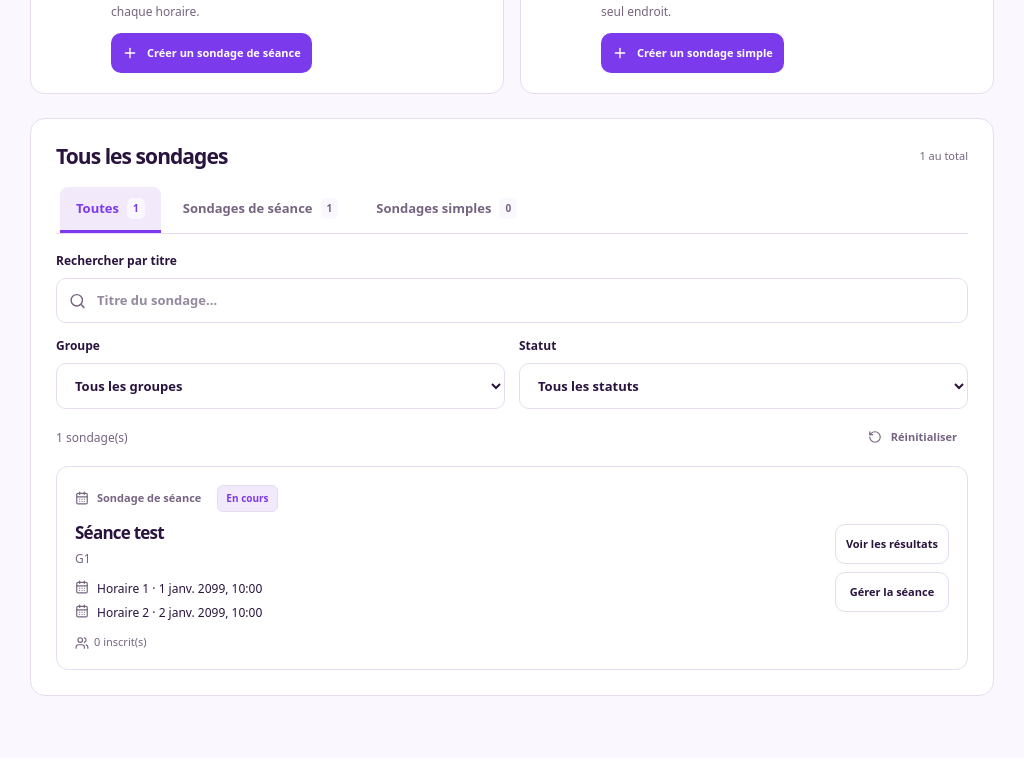
it: confirms slot removal, retains the remaining slot and prevents deleting the final slot alone
(page scrolled)
Click the button with aria-label "Gérer la séance : Séance test" at [892, 592], box [835,572,949,612]
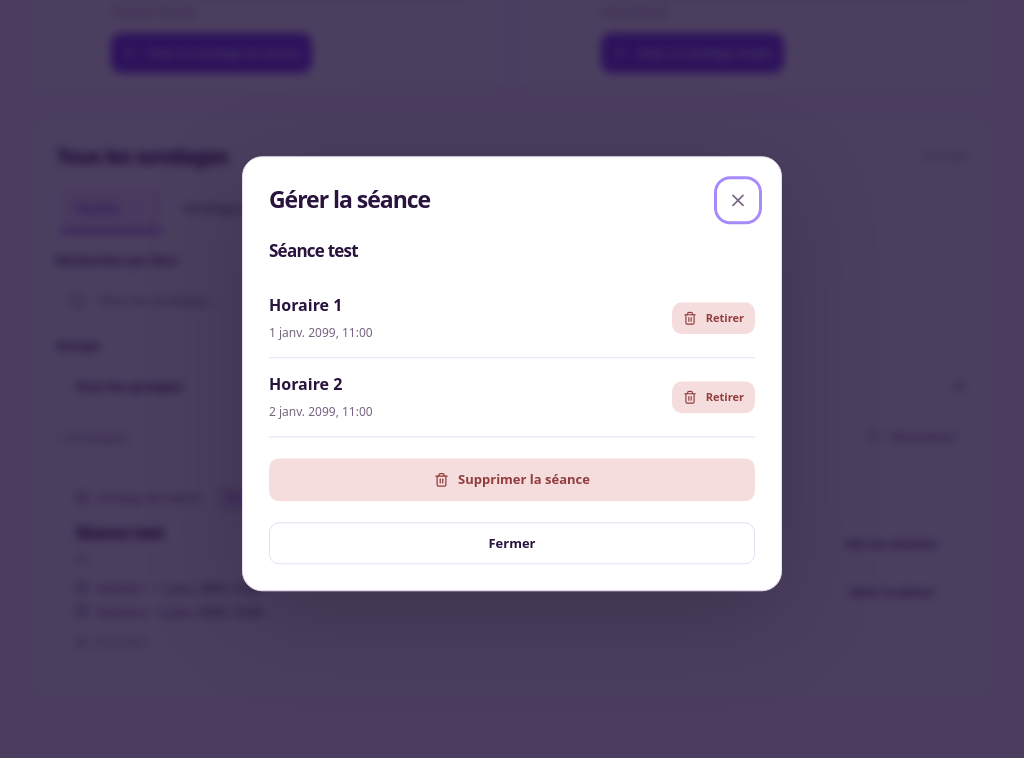
Click the button with aria-label "Retirer le créneau : Horaire 1" at [713, 318], box [672,302,755,334]
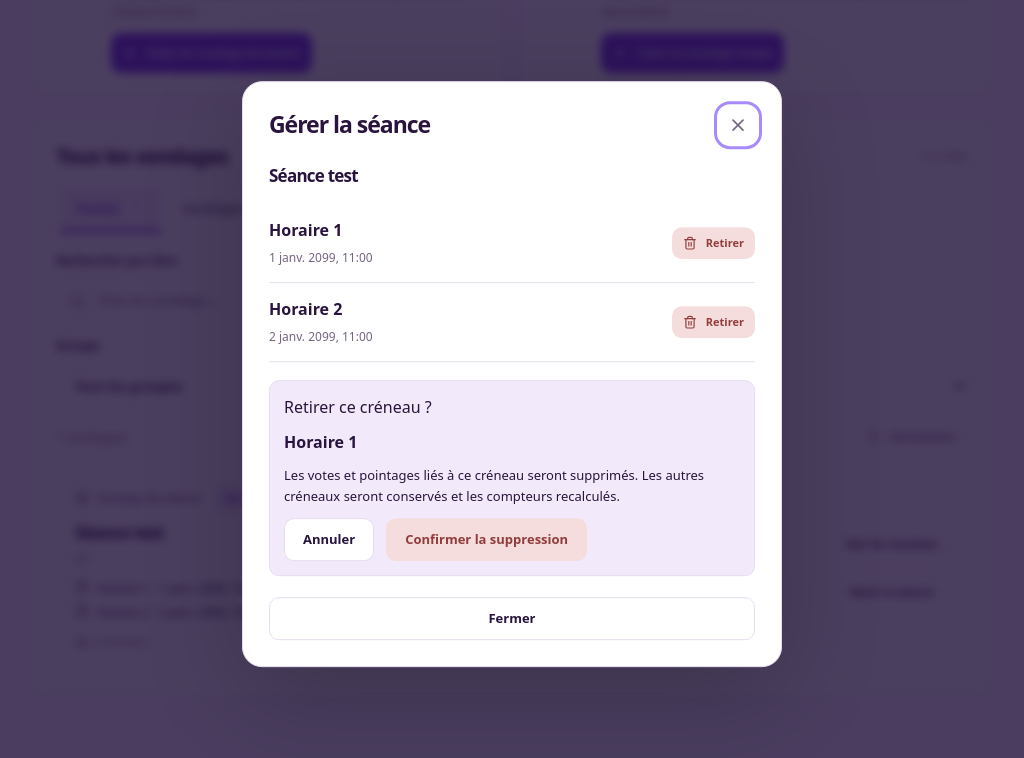
Click the button "Annuler" at [329, 540], box [284,518,374,561]
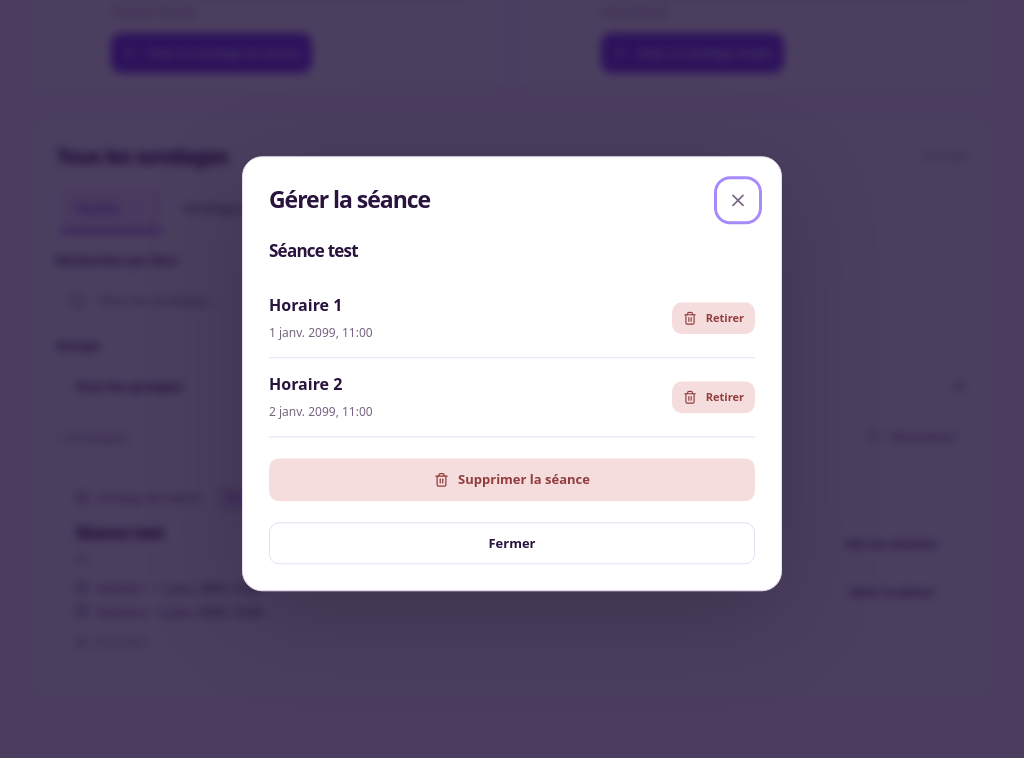
Click the button with aria-label "Retirer le créneau : Horaire 1" at [713, 318], box [672,302,755,334]
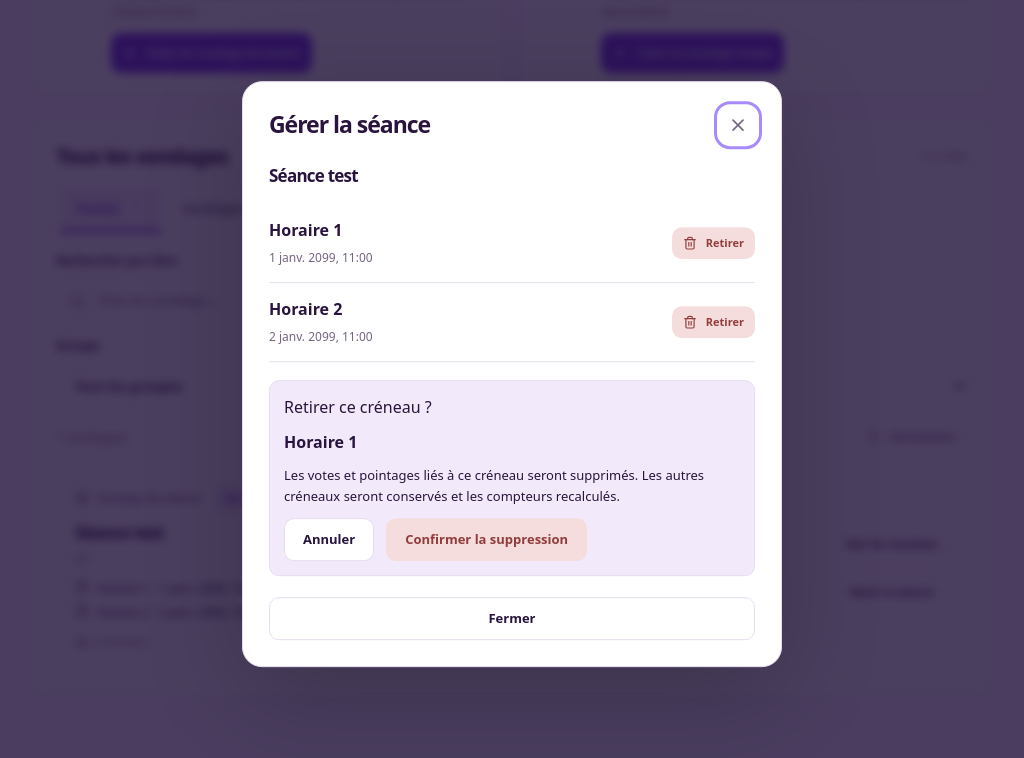
Click the button "Confirmer la suppression" at [487, 540], box [386,518,587,561]
(page scrolled)
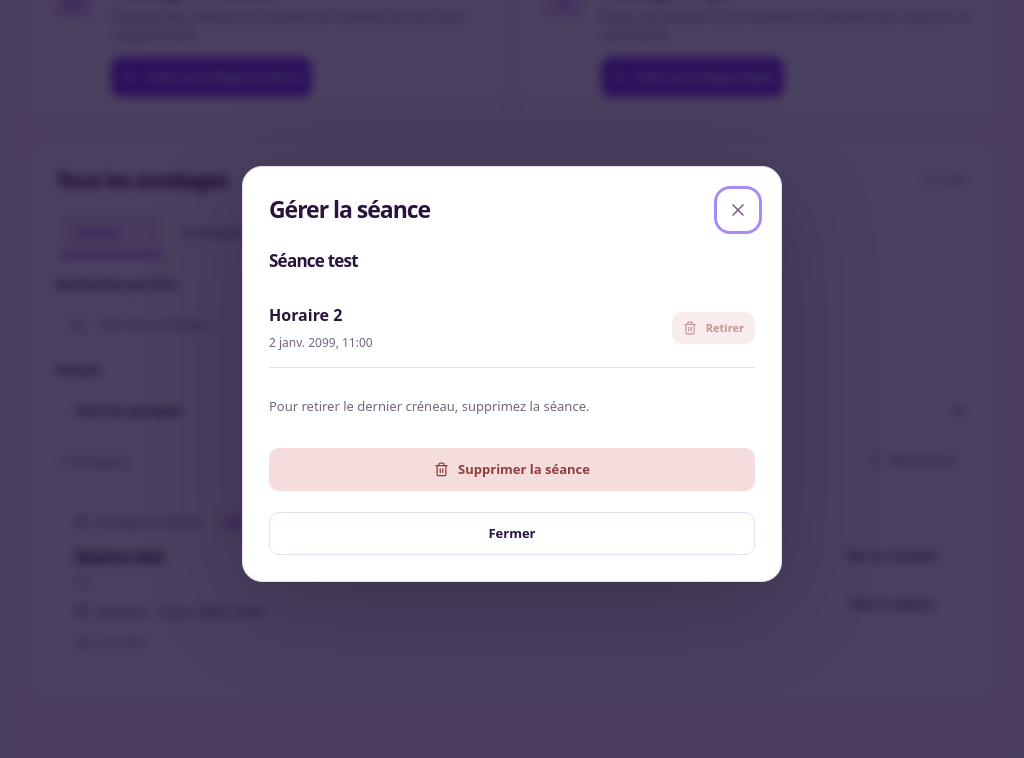
Now the button with aria-label "Retirer le créneau : Horaire 2" is disabled, box [672,312,755,344]
